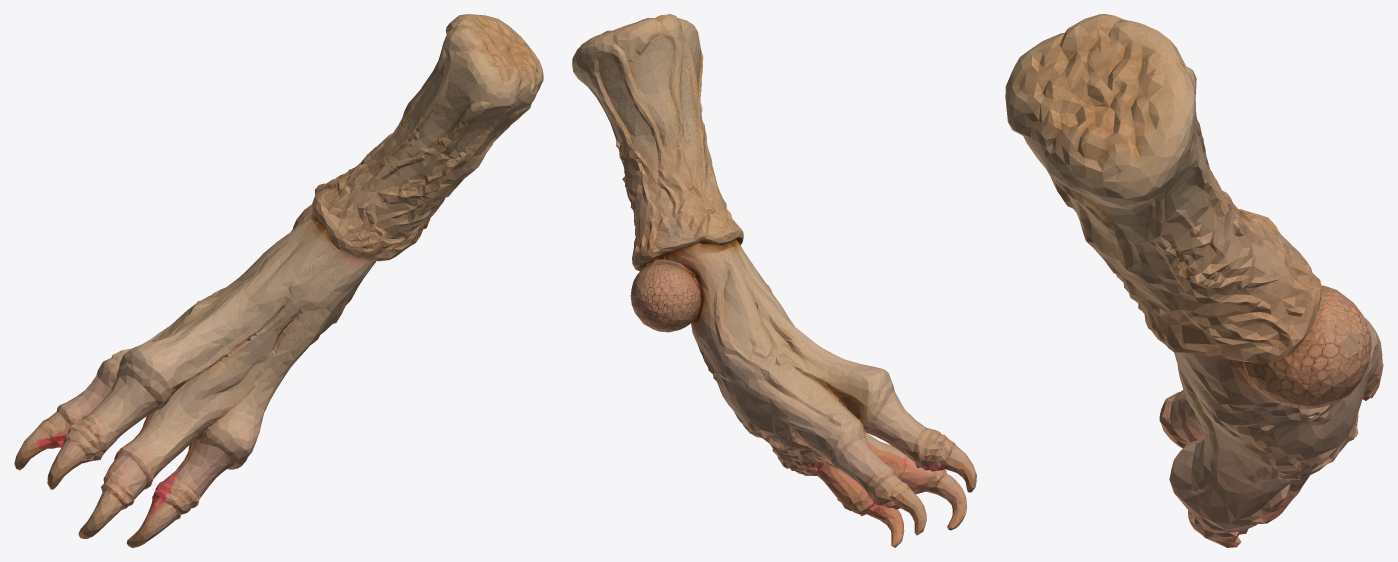
File: foot (18).glb
The picture shows the model from 3 angles, left to right: view 1: azimuth 30°, elevation 25°; view 2: azimuth 150°, elevation 25°; view 3: azimuth 270°, elevation 25°; orthographic projection. The views are drawn at different scales.
Visible parts, largest first — view 1: Hy21_Mesh.obj; view 2: Hy21_Mesh.obj; view 3: Hy21_Mesh.obj.
Part boxes in pixels (box(x1,y1,x2,y2)): Hy21_Mesh.obj: box(14, 14, 543, 547); Hy21_Mesh.obj: box(572, 14, 976, 547); Hy21_Mesh.obj: box(1005, 14, 1383, 547).
Size of the model in its own units: 1.96 by 1.93 by 0.8768.
1 material, 1 textured.
